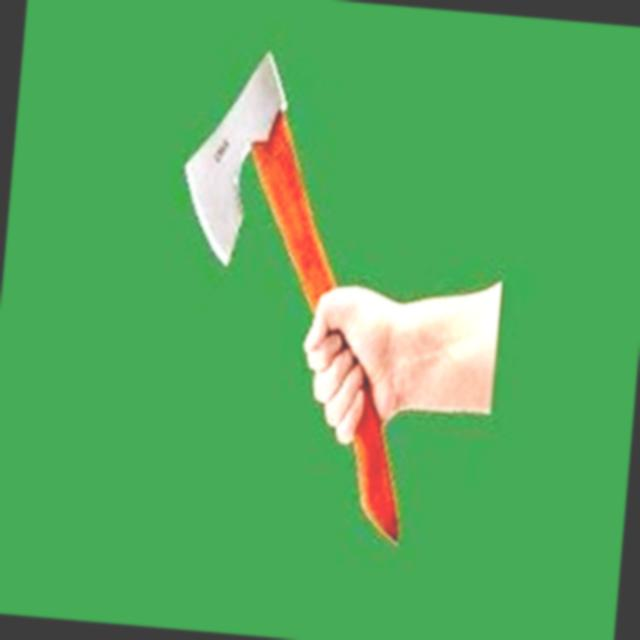ax: (138, 24, 462, 560)
